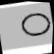no answer: (16, 5, 54, 41)
